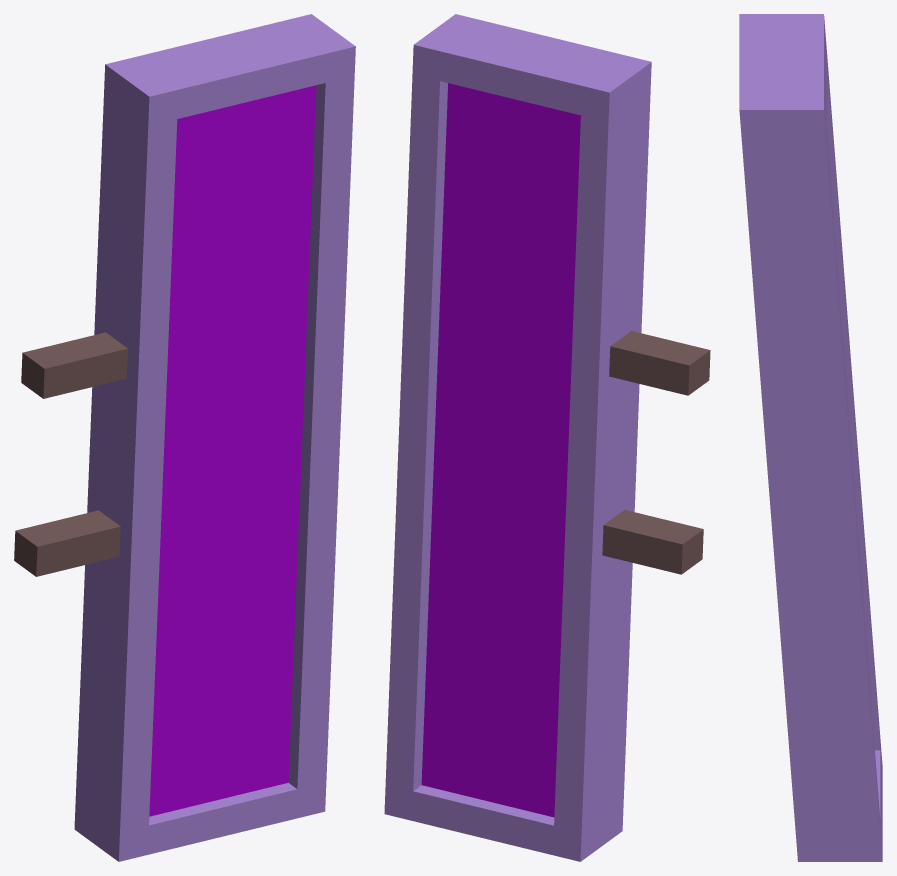
File: signf.fbx
3 renders of one model, left to right at view 1: azimuth 30°, elevation 25°; view 2: azimuth 150°, elevation 25°; view 3: azimuth 270°, elevation 25°, orthographic. The views are drawn at different scales.
Parts seen in each view (by area): view 1: Shape1; view 2: Shape1; view 3: Shape1.
Part boxes in pixels (<box>): Shape1: <box>14,14,355,861</box>; Shape1: <box>384,14,710,861</box>; Shape1: <box>739,14,882,861</box>.
Size of the model in its own units: 250 by 648 by 112.
